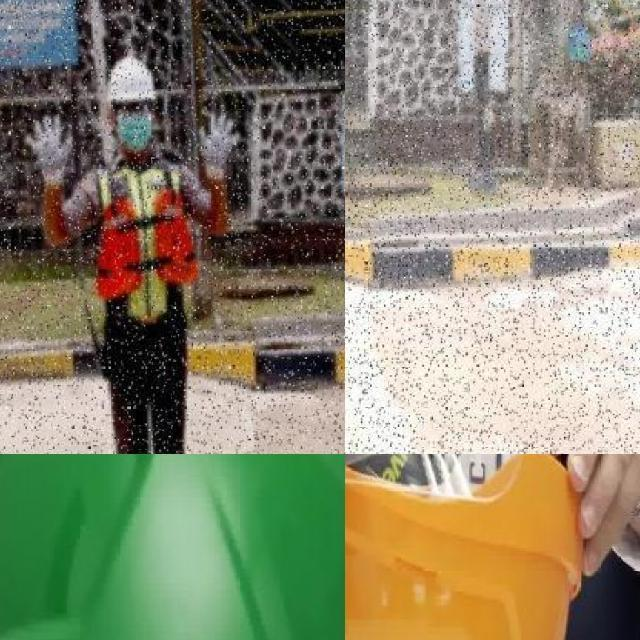apron: (23, 112, 76, 188), (198, 111, 242, 180)
